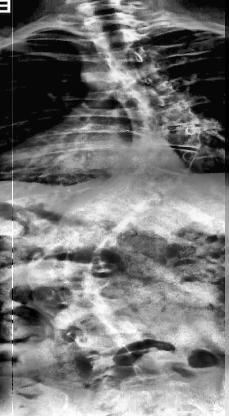Vertebrae: (35, 218, 114, 258), (68, 316, 150, 354), (42, 296, 124, 330), (64, 193, 136, 229), (21, 258, 104, 288), (30, 284, 116, 312), (93, 177, 163, 211), (114, 164, 188, 194), (128, 146, 204, 174), (109, 82, 187, 108), (128, 124, 204, 150), (124, 104, 200, 128), (102, 65, 168, 85), (94, 48, 152, 68), (88, 27, 142, 48), (82, 12, 140, 30), (79, 0, 137, 16)
